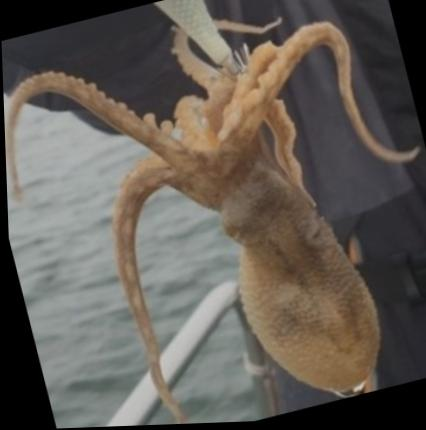Cephalopod: (4, 23, 419, 425)
